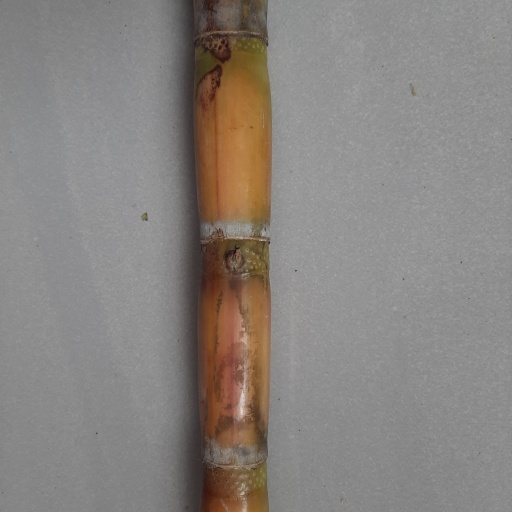Bud: (222, 246, 245, 278)
